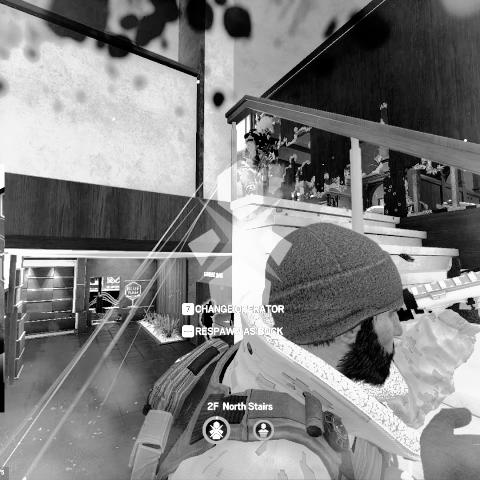Character: (127, 221, 480, 480), (238, 114, 277, 197)
Head: (258, 221, 406, 391), (257, 117, 275, 135)
